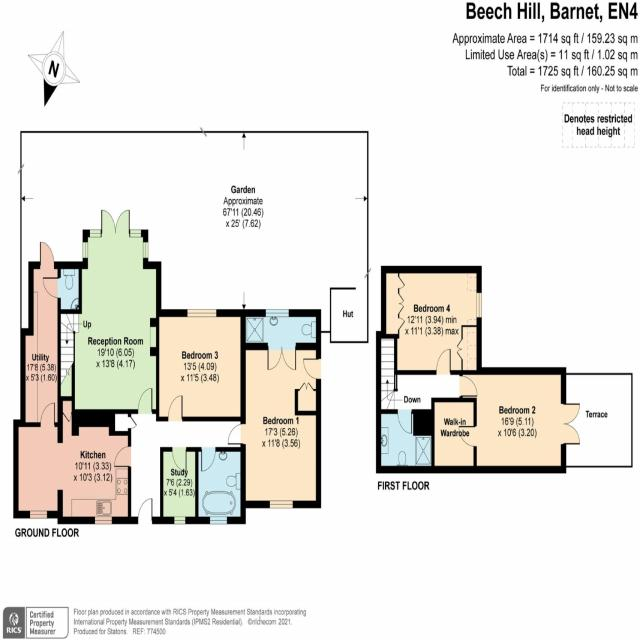DOOR: (39, 241, 55, 270), (459, 375, 479, 398), (458, 424, 477, 448), (227, 421, 246, 445), (42, 275, 61, 299), (136, 387, 153, 413), (39, 401, 56, 427), (302, 357, 321, 380), (435, 348, 451, 375), (137, 498, 153, 525), (113, 444, 131, 468), (170, 446, 187, 471), (167, 395, 183, 421), (396, 409, 412, 434), (200, 447, 216, 472)
DOUBLE DOOR: (100, 205, 132, 238), (266, 341, 298, 373), (560, 402, 581, 445)
ROOM: (71, 206, 161, 427), (227, 341, 322, 509), (13, 396, 131, 525), (456, 365, 580, 473), (156, 308, 246, 422), (397, 265, 482, 375)
WINDOW: (186, 308, 217, 318), (269, 499, 293, 510), (265, 308, 289, 317), (93, 516, 113, 526), (207, 516, 228, 525), (476, 290, 482, 319), (29, 510, 48, 519), (82, 240, 89, 260), (129, 228, 142, 238), (88, 228, 101, 237), (173, 516, 186, 525), (143, 240, 148, 259)
